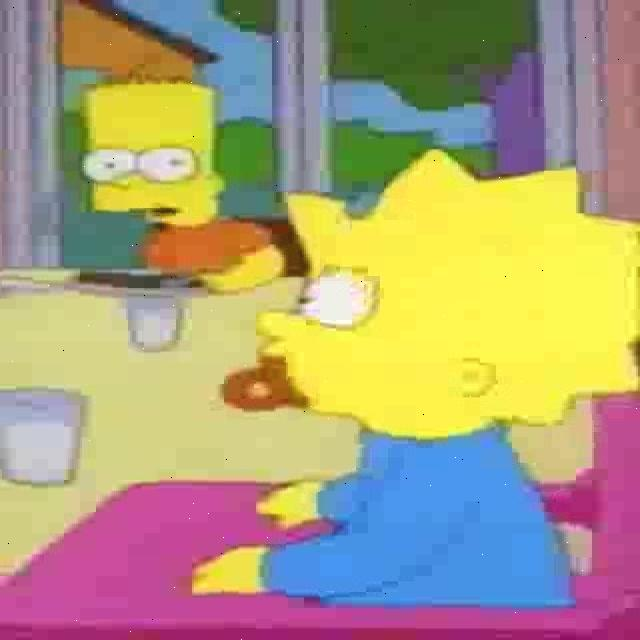Bart Simpson: (79, 76, 225, 232)
Maggie Simpson: (222, 145, 640, 447)
